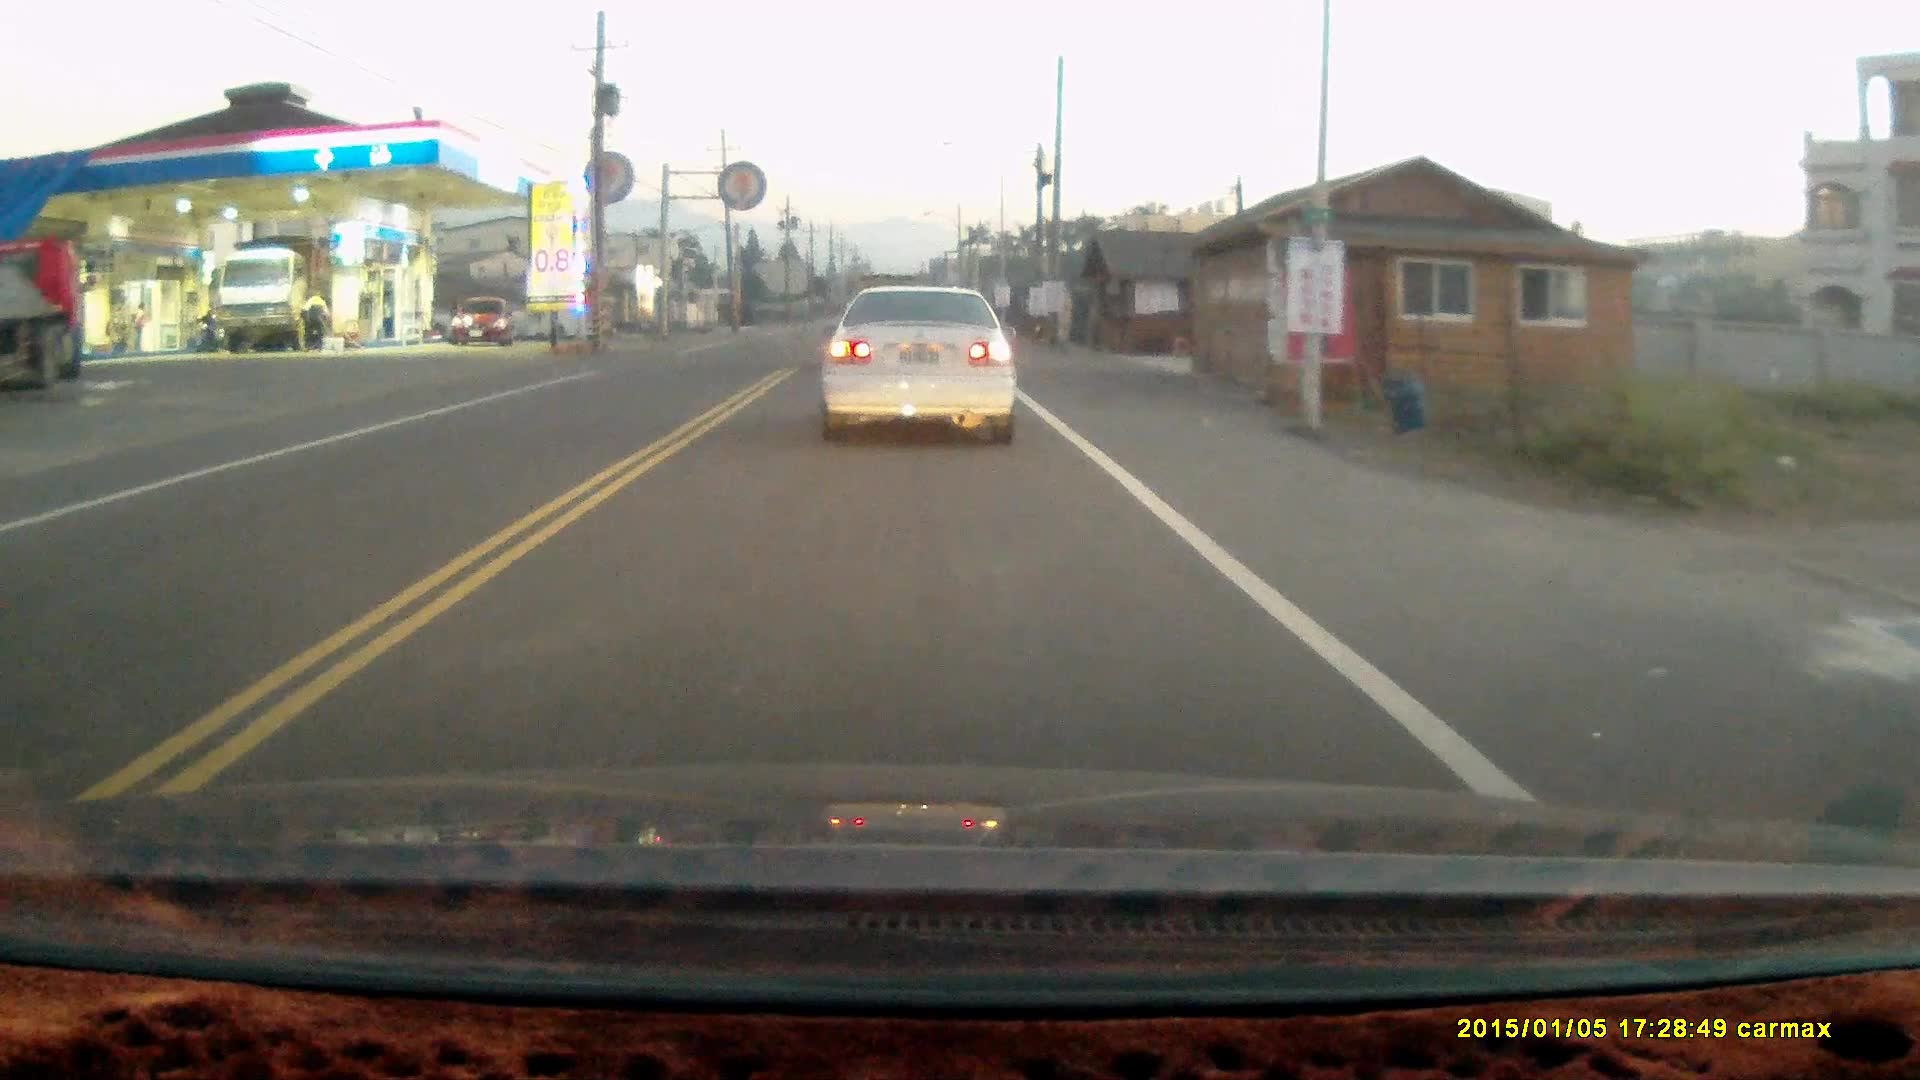pedestrian: (295, 289, 330, 350)
vehicle: (815, 281, 1022, 446), (216, 242, 331, 352), (452, 296, 522, 350)
